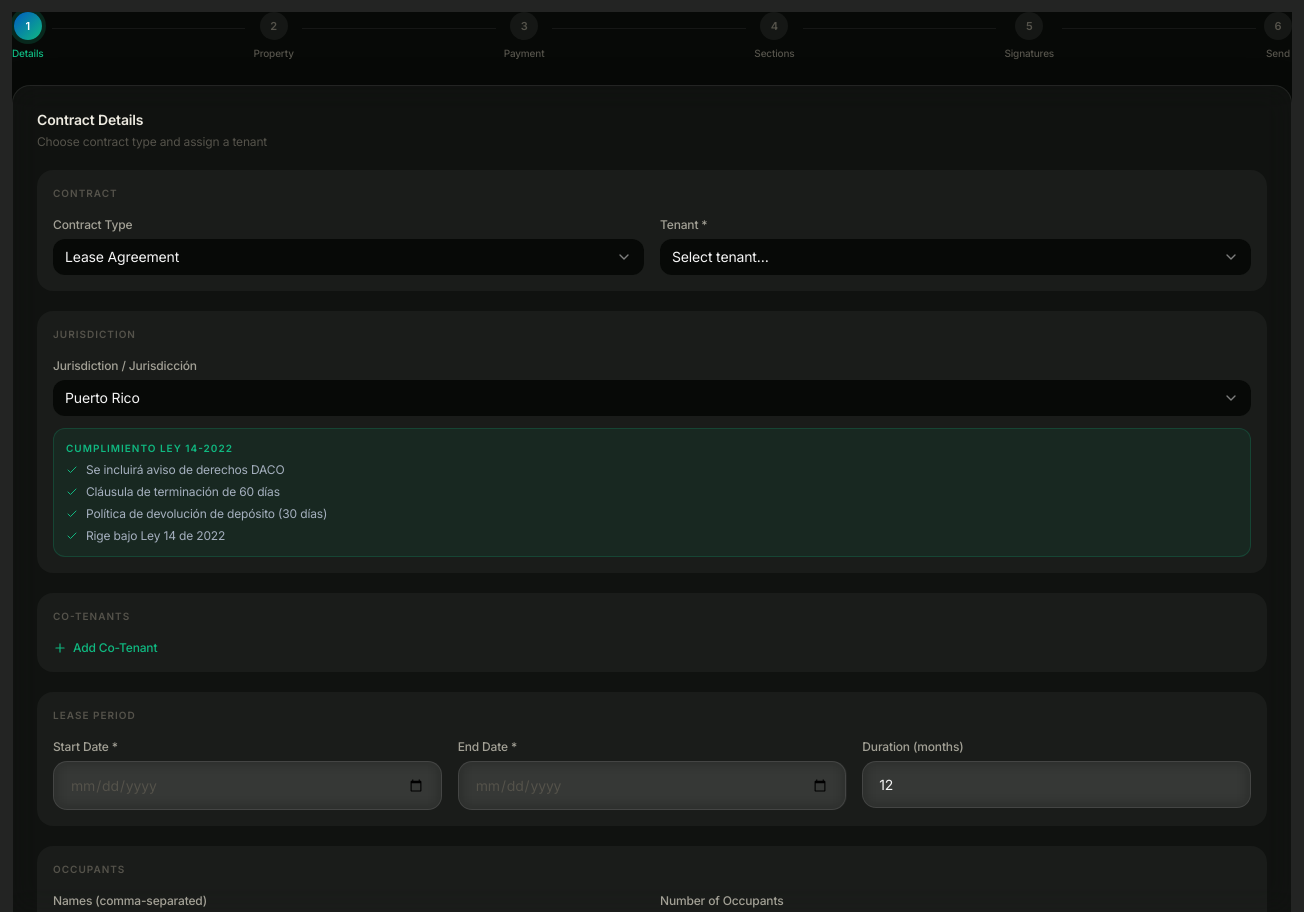
Test: ContractBuilder step navigation › clicking Property tab advances to step 1 content
The image size is (1304, 912).
Click the button "2 Property" at (274, 36), box [254, 12, 294, 61]
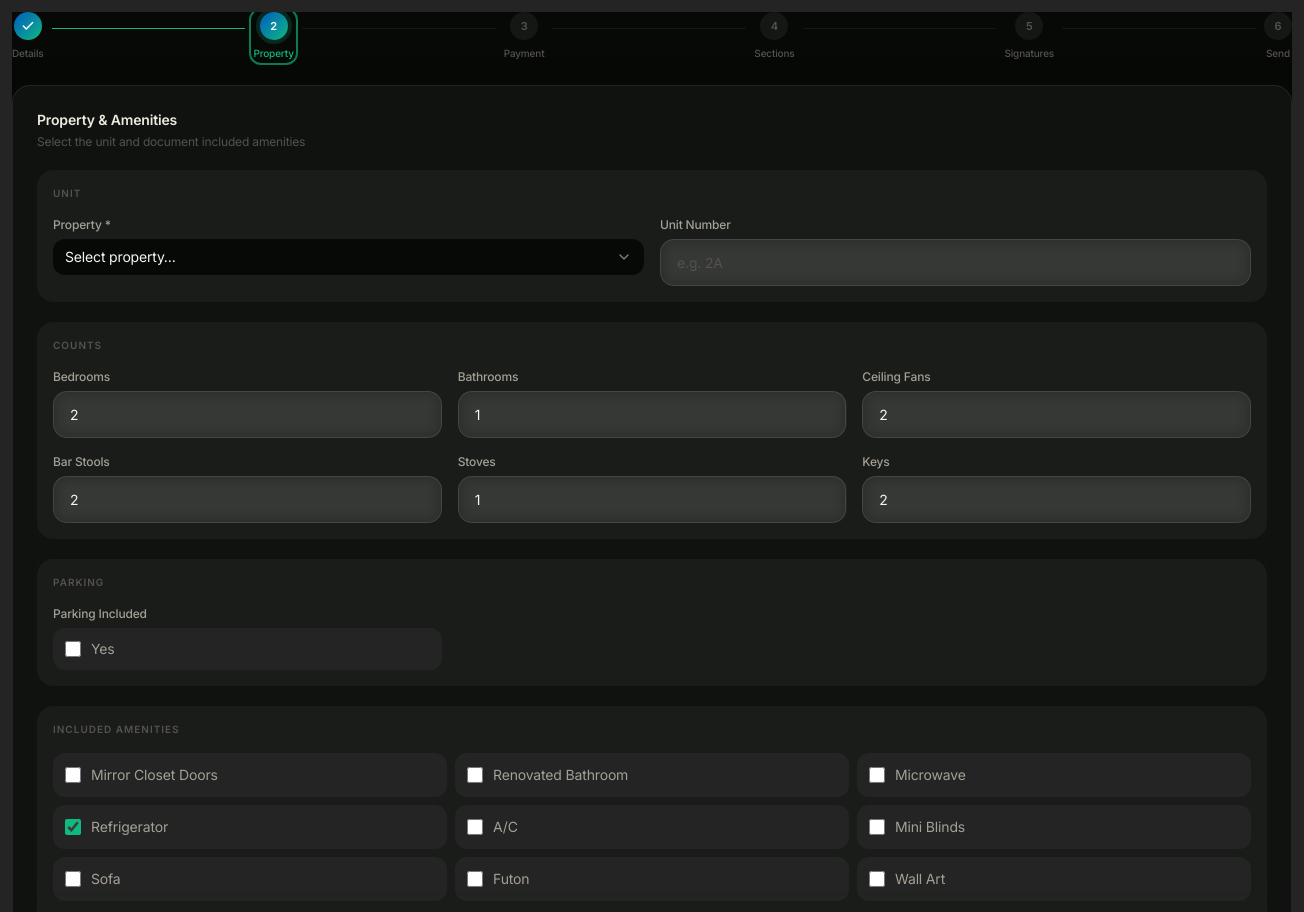
expect the text "Property & Amenities" is shown: met, box [37, 111, 177, 128]
